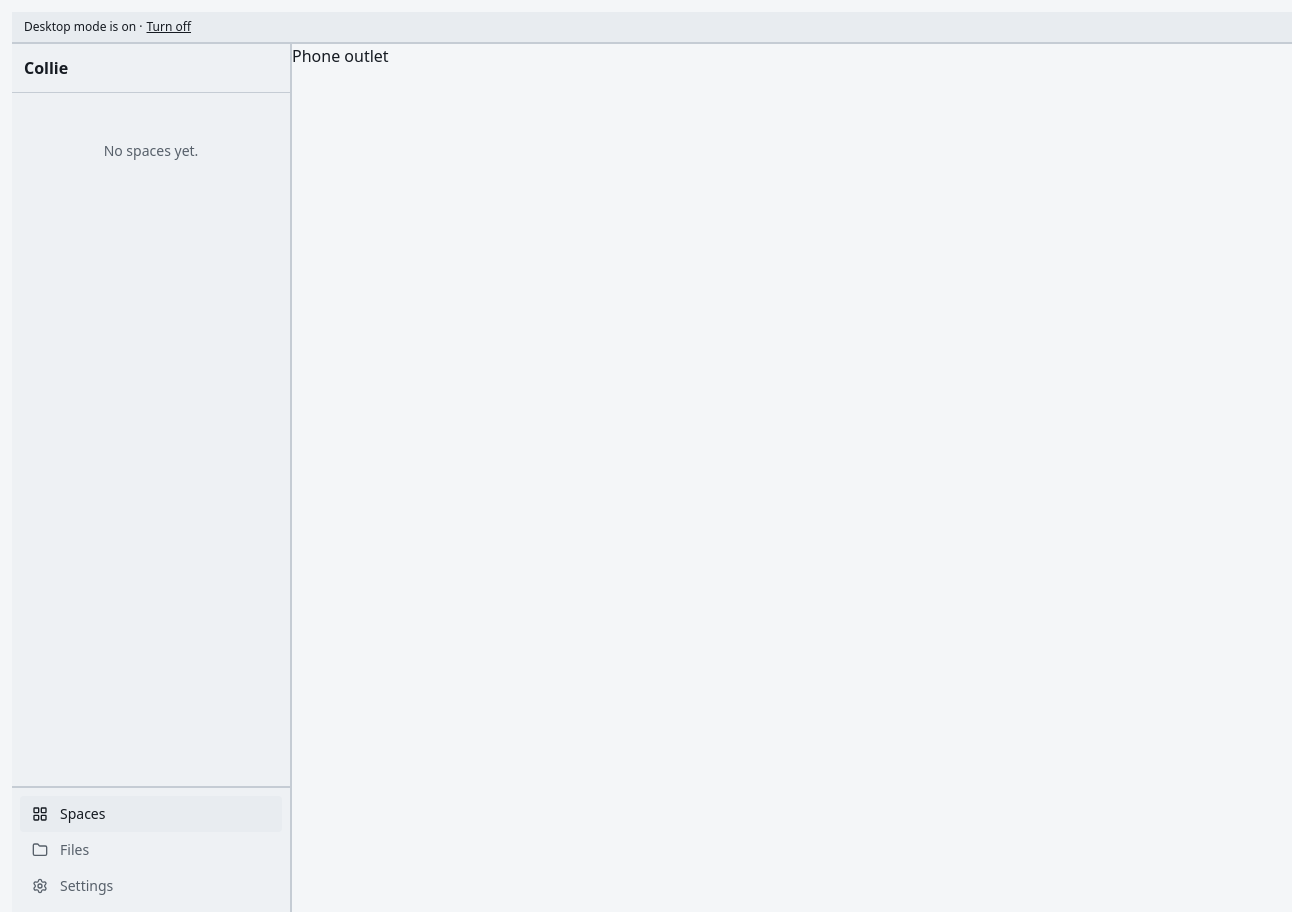
Test case: turns off desktop mode from the shell
Step 1. Click the button "Turn off" → point(169, 27), box [146,19,191,35]
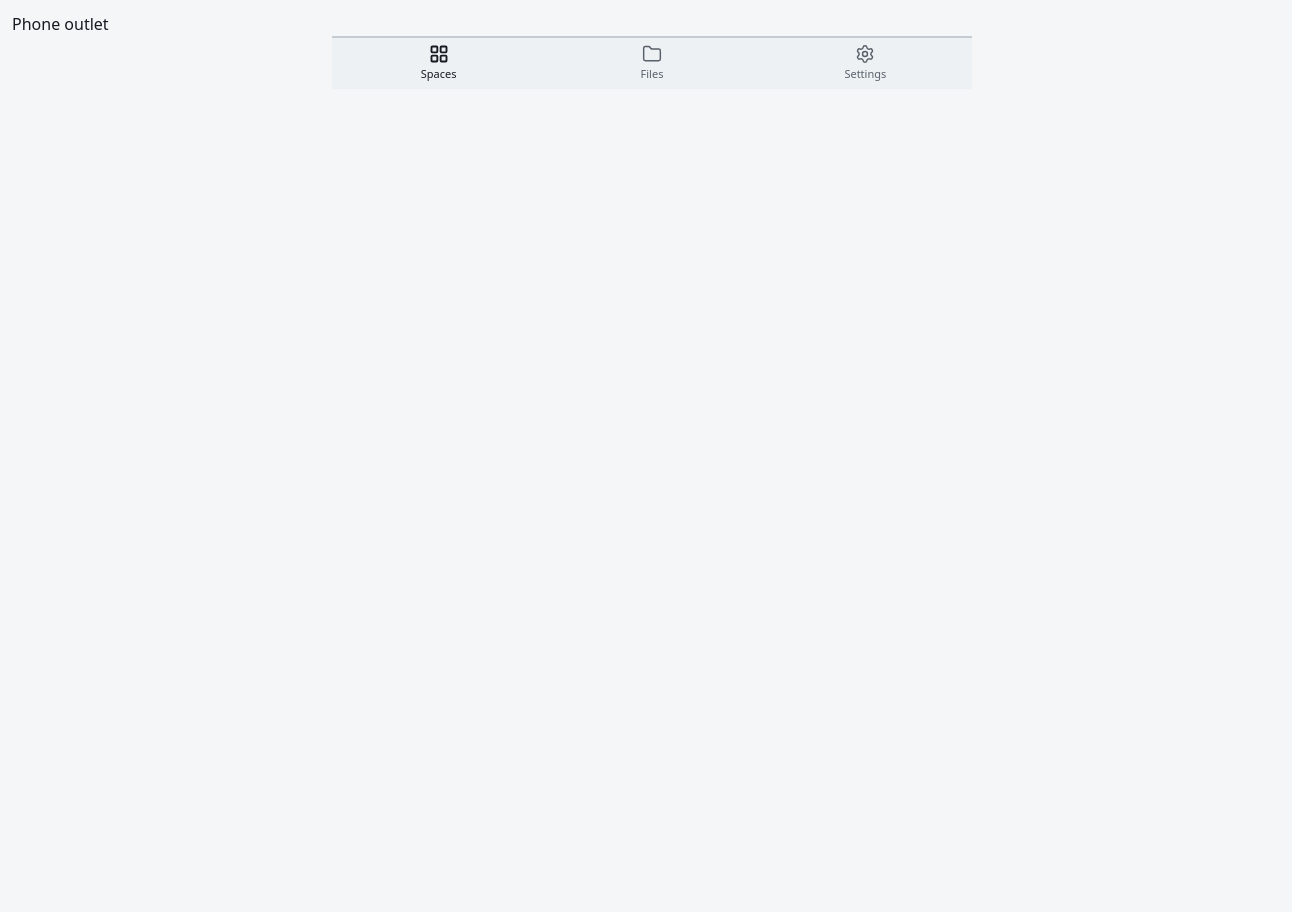
Expected: the navigation bar named "Main" is shown, [332,36,972,88]
Now the text "Desktop mode is on" is gone
